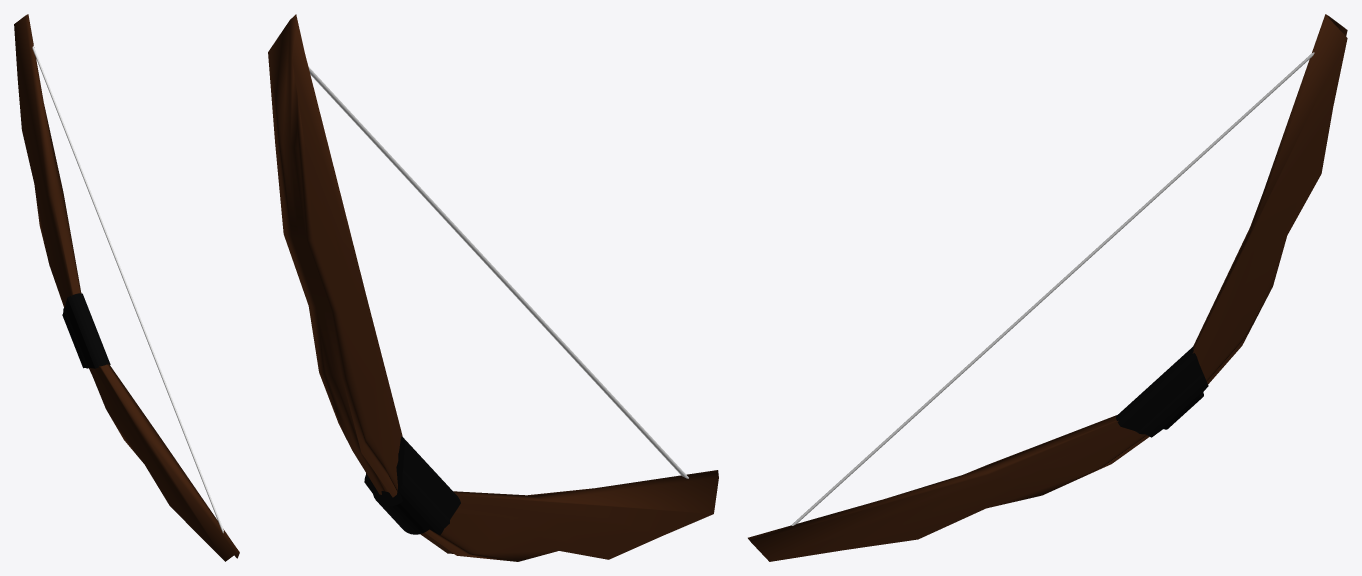
File: source bow.fbx
3 views of the same model, side by side, from view 1: azimuth 30°, elevation 25°; view 2: azimuth 150°, elevation 25°; view 3: azimuth 270°, elevation 25° (orthographic). The views are drawn at different scales.
Visible parts, largest first — view 1: Bow, Cylinder.001, Cylinder; view 2: Bow, Cylinder.001, Cylinder; view 3: Bow, Cylinder.001, Cylinder.
Boxes of the visible parts, bbox=[...] form: Bow: bbox=[14, 14, 239, 561]; Cylinder.001: bbox=[62, 293, 110, 368]; Cylinder: bbox=[32, 45, 223, 533]; Bow: bbox=[268, 14, 718, 561]; Cylinder.001: bbox=[364, 436, 460, 535]; Cylinder: bbox=[308, 66, 688, 478]; Bow: bbox=[748, 14, 1347, 561]; Cylinder.001: bbox=[1116, 346, 1208, 437]; Cylinder: bbox=[791, 52, 1314, 525].
Bounding box in the file's own units: 12 × 247 × 247.
